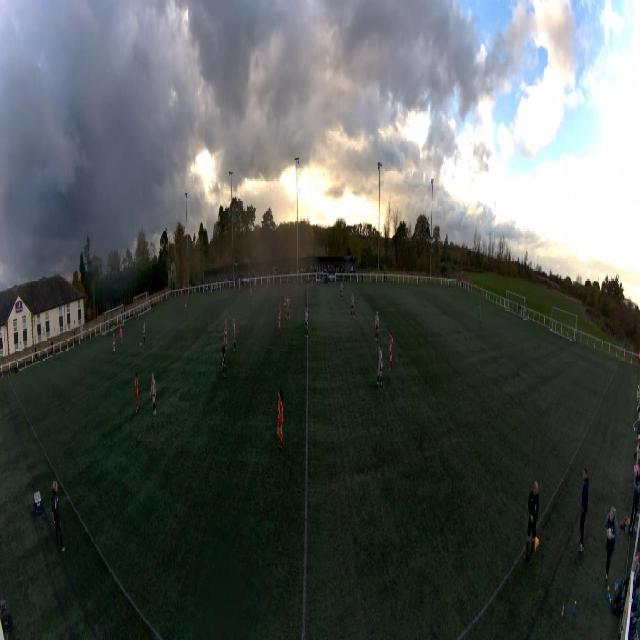ball: (140, 342, 142, 347)
player: (277, 393, 284, 445), (377, 342, 383, 388), (151, 373, 157, 415), (221, 340, 227, 378), (135, 373, 139, 414), (389, 332, 393, 370), (304, 307, 309, 336), (224, 319, 228, 351), (286, 295, 291, 320), (375, 311, 379, 342), (351, 292, 355, 318), (112, 333, 116, 359), (233, 318, 236, 352), (283, 294, 287, 319), (278, 304, 281, 336), (339, 283, 343, 300), (143, 322, 146, 343), (478, 304, 481, 323), (120, 327, 123, 345), (249, 287, 252, 305), (311, 276, 314, 290), (185, 298, 187, 316), (254, 281, 257, 292)
